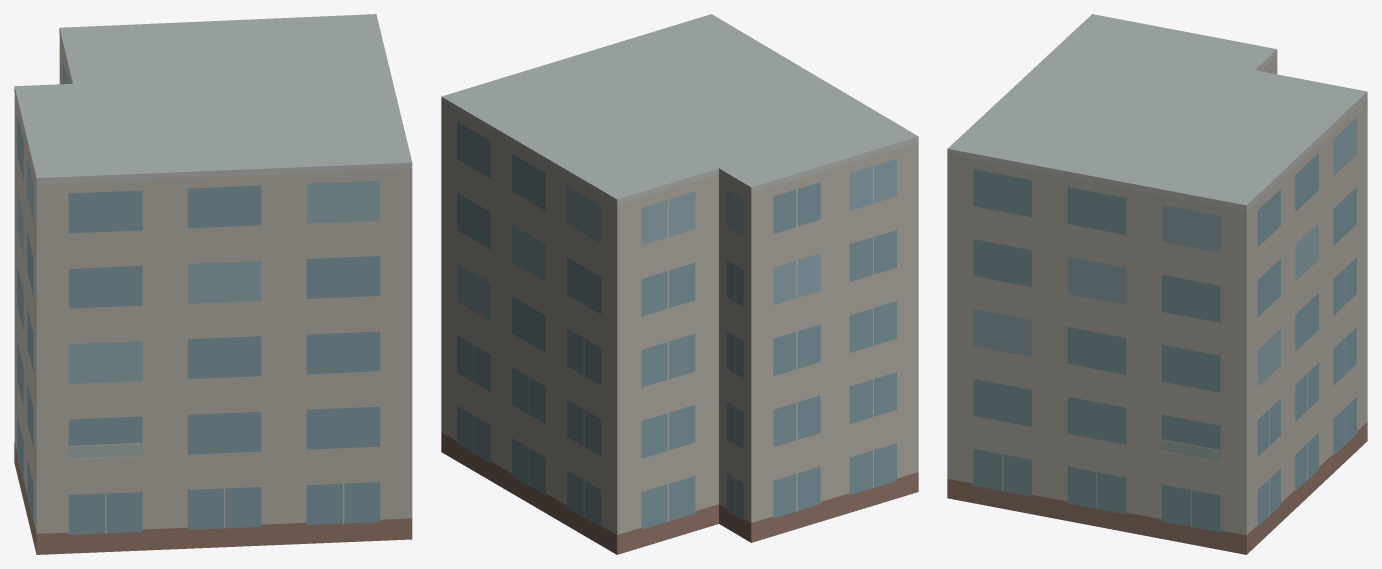
File: survey-upis-32587089.glb
3 views of the same model, side by side, from view 1: azimuth 30°, elevation 25°; view 2: azimuth 150°, elevation 25°; view 3: azimuth 270°, elevation 25° (orthographic). The views are drawn at different scales.
Parts seen in each view (by area): view 1: survey-upis-32587089.tmp; view 2: survey-upis-32587089.tmp; view 3: survey-upis-32587089.tmp.
Part boxes in pixels (x1,y1,x2,y2): survey-upis-32587089.tmp: [14, 14, 412, 554]; survey-upis-32587089.tmp: [441, 14, 918, 554]; survey-upis-32587089.tmp: [947, 14, 1367, 554].
Bounding box in the file's own units: 17.92 × 15.25 × 16.62.
